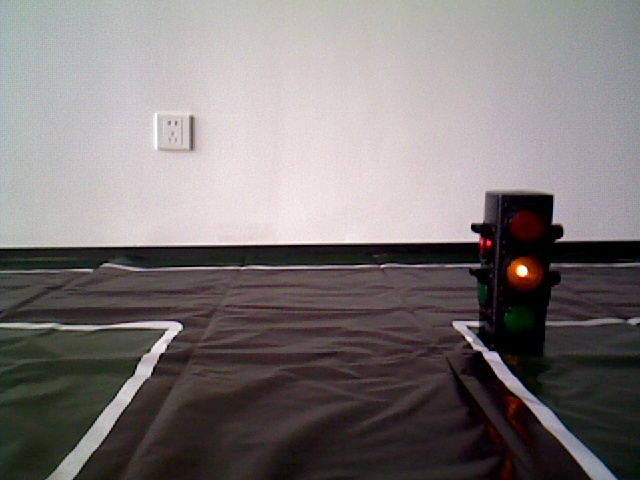yellow: (479, 187, 557, 346)
